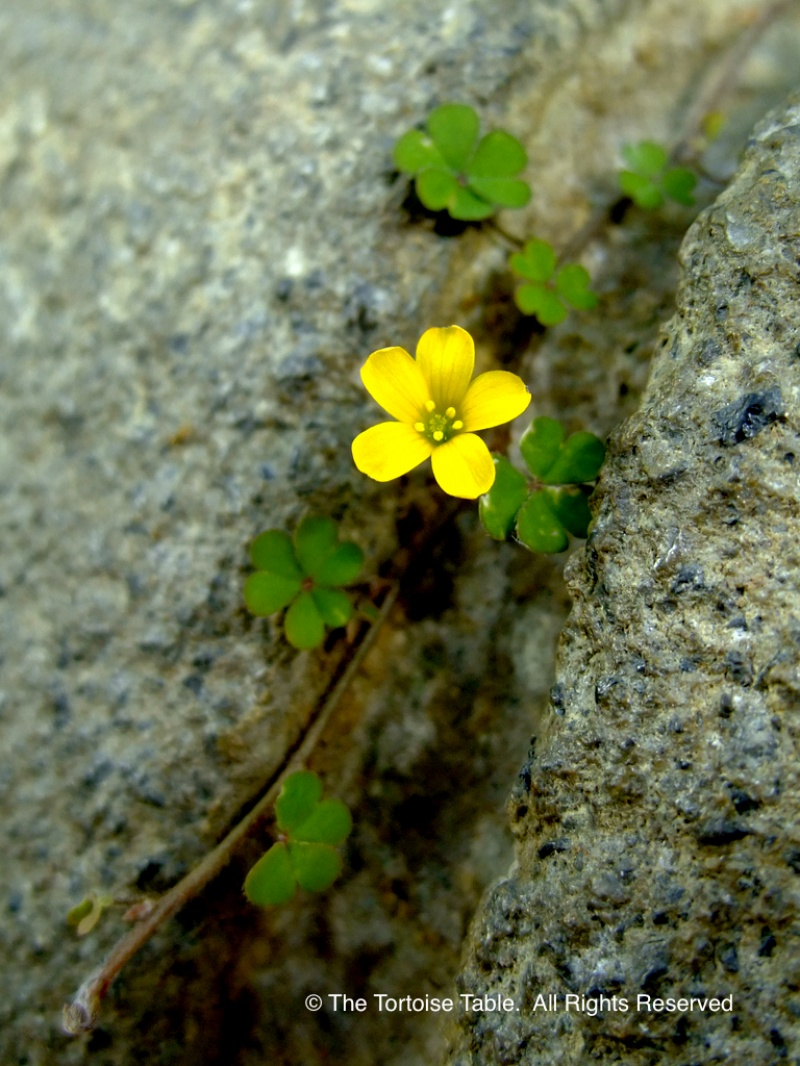oxalis: (299, 79, 707, 324), (171, 498, 388, 643), (227, 719, 351, 918), (491, 399, 599, 563)
